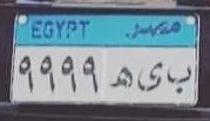9: (58, 54, 78, 96), (82, 54, 100, 96), (39, 52, 57, 94), (18, 53, 36, 94)
baa: (166, 61, 193, 95)
haa: (108, 64, 134, 93)
yaa: (137, 60, 164, 93)
